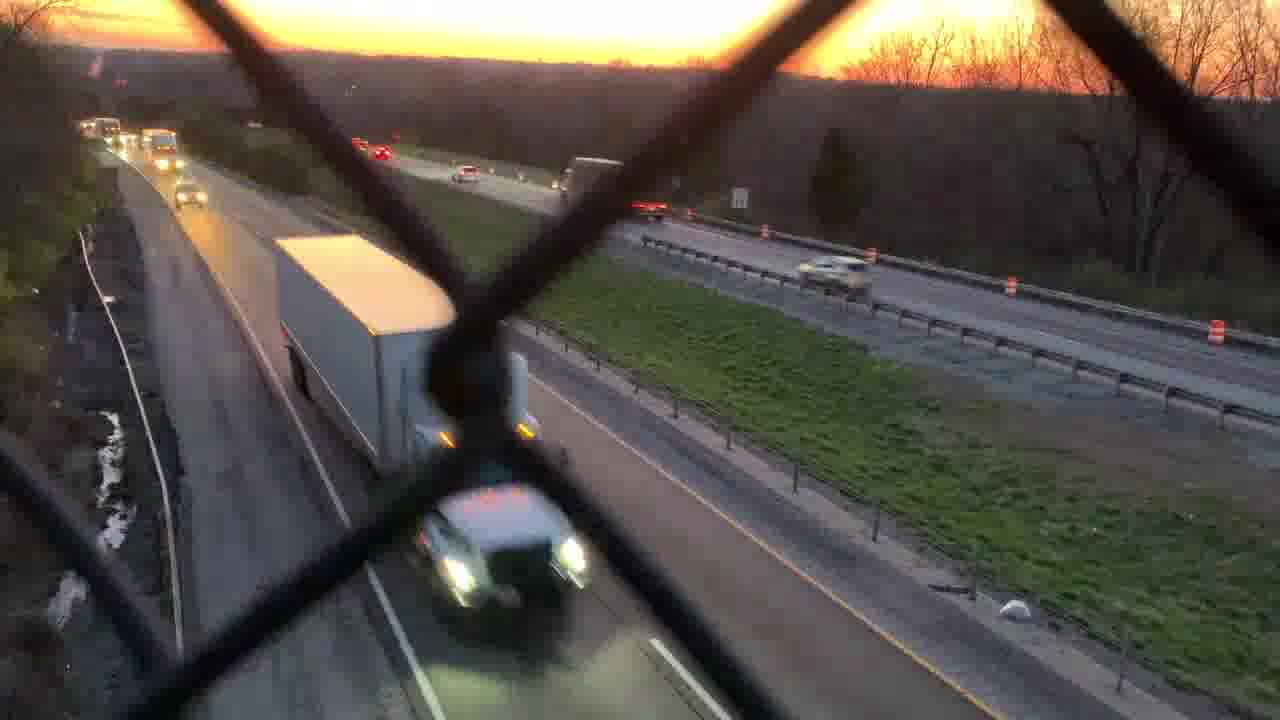heavyTruck: (271, 220, 599, 628)
largeCar: (794, 252, 877, 298)
